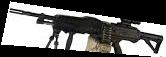gun: (1, 1, 166, 57)
